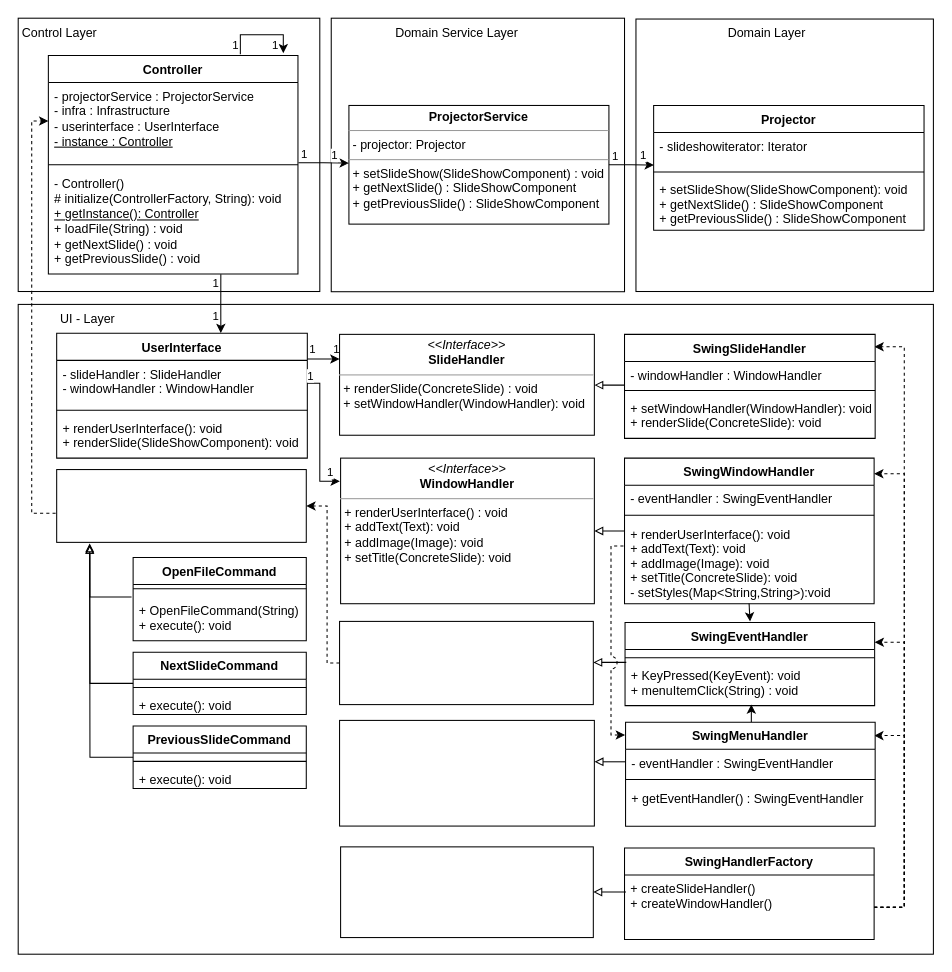
The diagram is 952 pixels wide and 972 high, and some of its shapes have lost their labels. Each missing label, with the centre of its shape:
"<<Interface>> Command + execute(): void" belongs at [181,505].
"<<Interface>> EventHandler + menuItemClick(String) : void" belongs at [466,662].
"<<Interface>> HandlerFactory + createSlideHandler() + createWindowHandler()" belongs at [466,892].
"<<Interface>> MenuHandler + getEventHandler() : EventHandler" belongs at [466,772].
